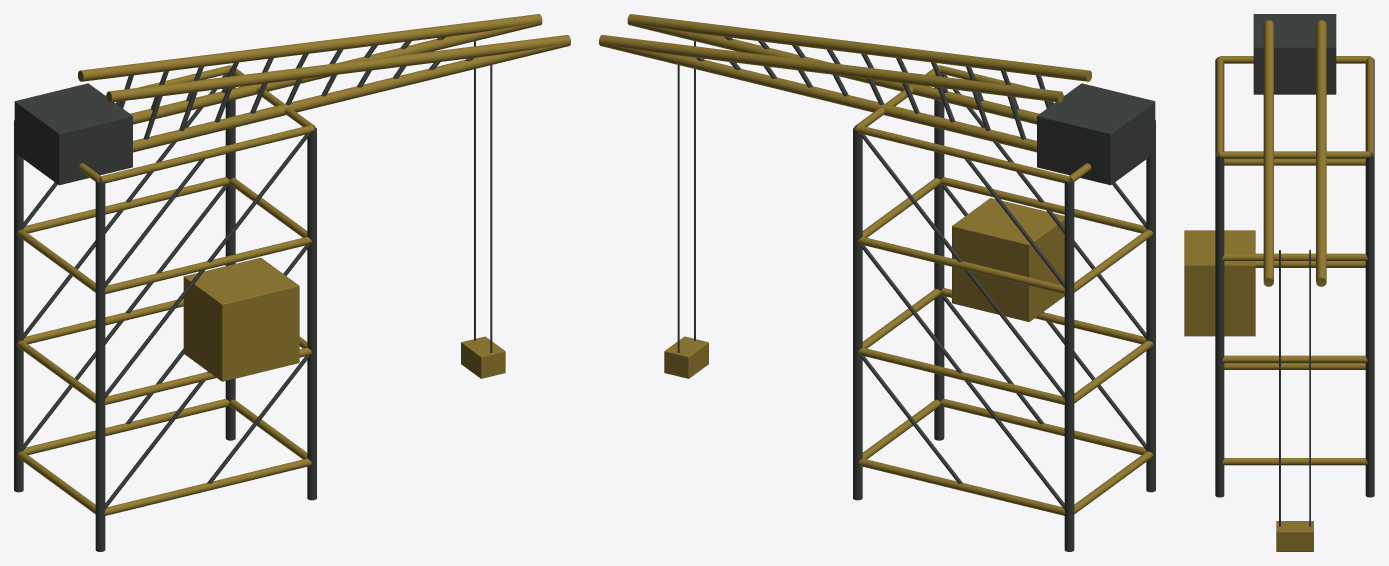
The model's file is QuarryCrane.fbx.
3 views of the same model, side by side, from view 1: azimuth 30°, elevation 25°; view 2: azimuth 150°, elevation 25°; view 3: azimuth 270°, elevation 25° (orthographic). The views are drawn at different scales.
Visible parts, largest first — view 1: QuarryCrane; view 2: QuarryCrane; view 3: QuarryCrane.
Part boxes in pixels (<box>): QuarryCrane: <box>14,14,570,551</box>; QuarryCrane: <box>599,14,1155,551</box>; QuarryCrane: <box>1184,14,1374,551</box>.
Size of the model in its own units: 1467 by 507 by 1164.
